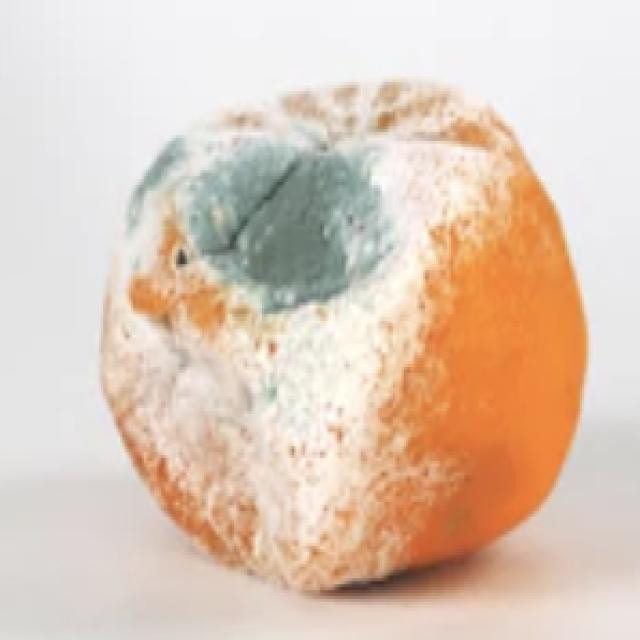sangat-busuk: (101, 78, 586, 590)
